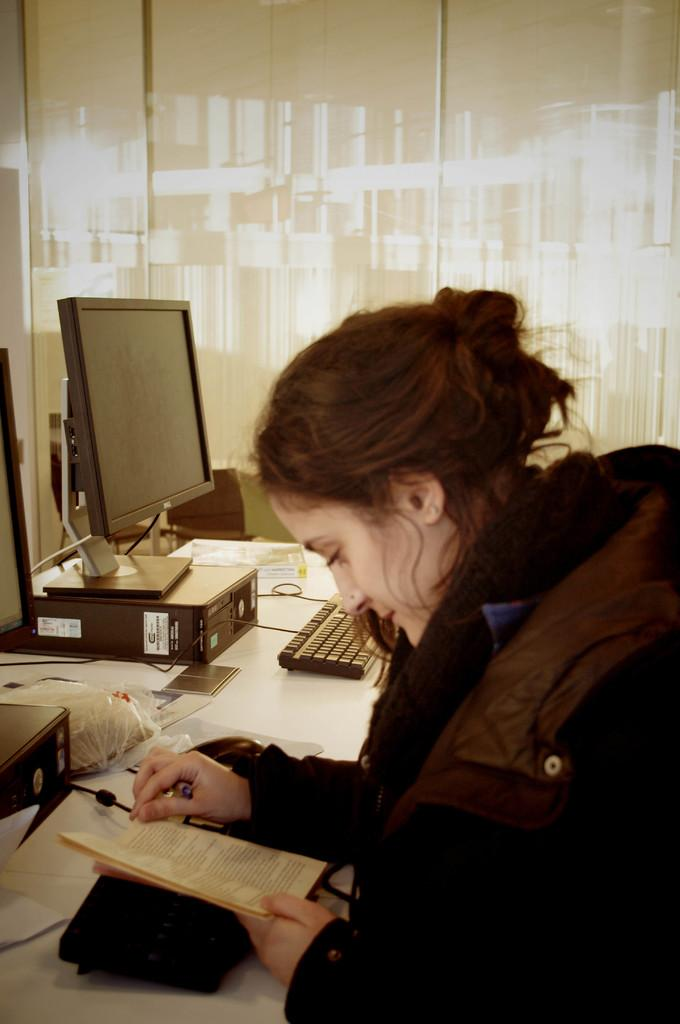Computer-monitor: (38, 288, 219, 589)
